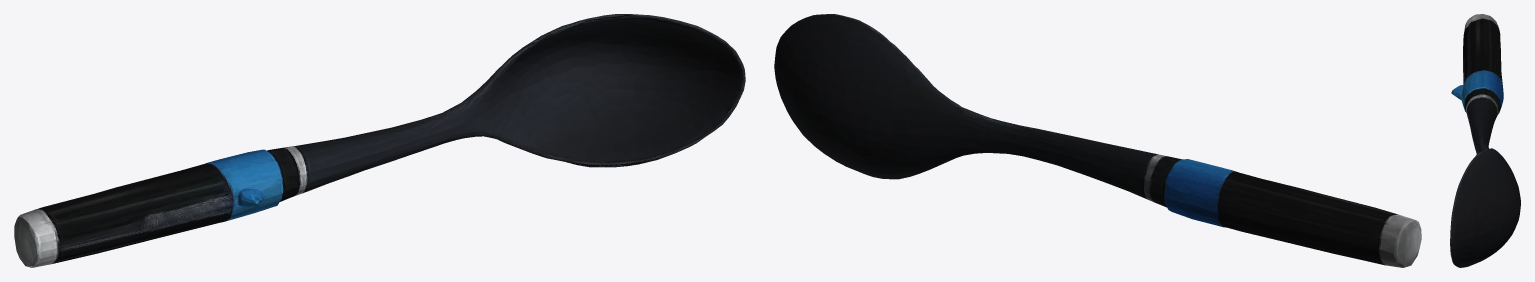
The model's file is tool_scoop.glb.
3 renders of one model, left to right at view 1: azimuth 30°, elevation 25°; view 2: azimuth 150°, elevation 25°; view 3: azimuth 270°, elevation 25°, orthographic. The views are drawn at different scales.
Parts seen in each view (by area): view 1: V_spoon_spatula_0; view 2: V_spoon_spatula_0; view 3: V_spoon_spatula_0.
Boxes of the visible parts, <box> form: V_spoon_spatula_0: <box>14,14,745,267</box>; V_spoon_spatula_0: <box>774,14,1421,267</box>; V_spoon_spatula_0: <box>1450,14,1520,267</box>.
Size of the model in its own units: 0.3485 by 0.0738 by 0.0472.
Materials: 1 (1 with a texture image).
